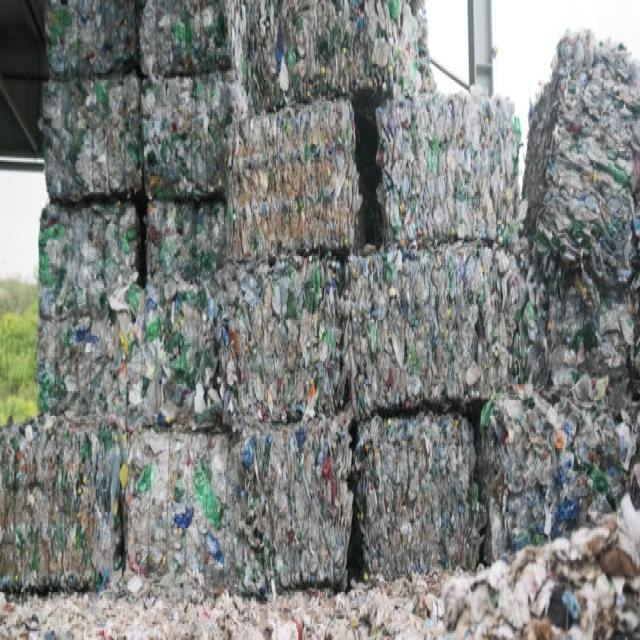plastic: (68, 75, 612, 580)
